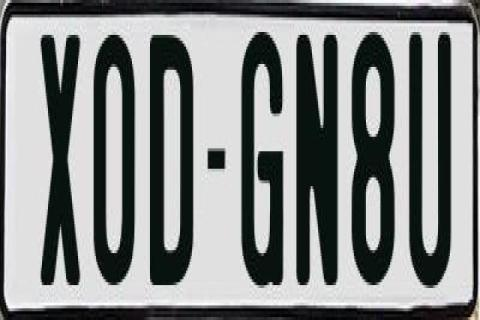0: (348, 27, 398, 297), (94, 26, 136, 276)
D: (146, 32, 194, 296)
G: (238, 23, 282, 291)
N: (294, 29, 338, 294)
U: (406, 23, 454, 285)
X: (40, 32, 80, 294)
